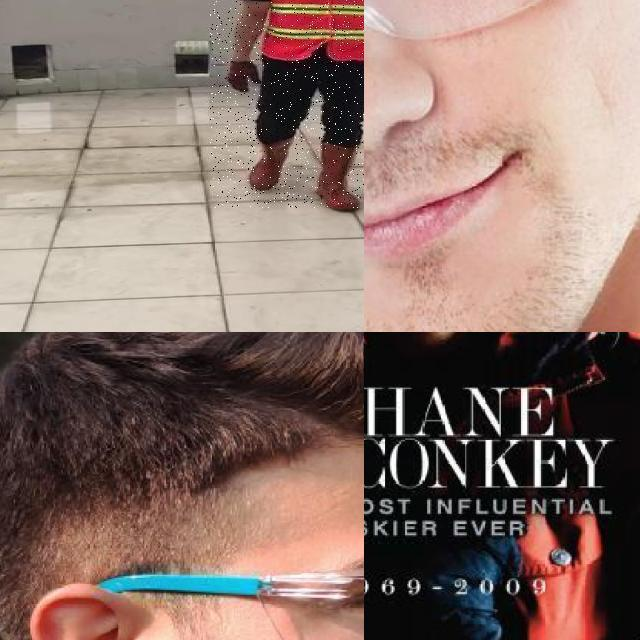No_Ear-Protection: (16, 572, 170, 640)
boots: (234, 139, 296, 191), (320, 141, 364, 213)
face_nomask: (364, 0, 551, 273)
glasses: (364, 0, 640, 134), (31, 543, 364, 640)
head_nohelmet: (39, 332, 364, 530)
person: (210, 0, 364, 208)
vest: (264, 0, 364, 60)
